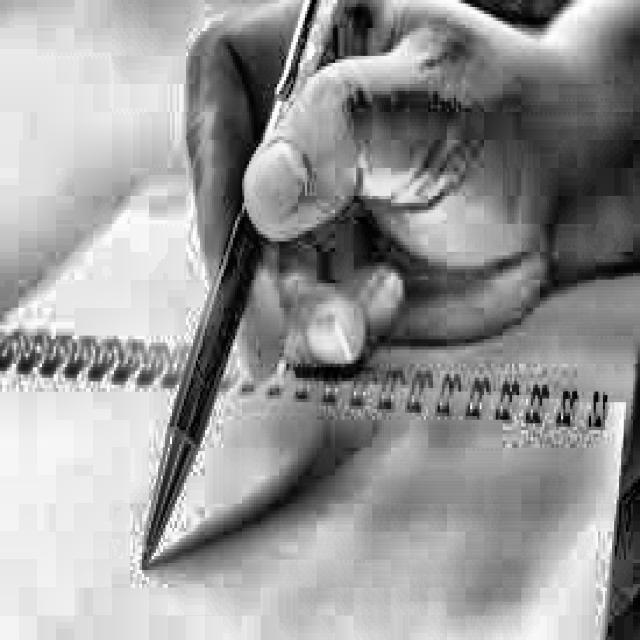Pen: (142, 203, 261, 568), (268, 0, 336, 138)
